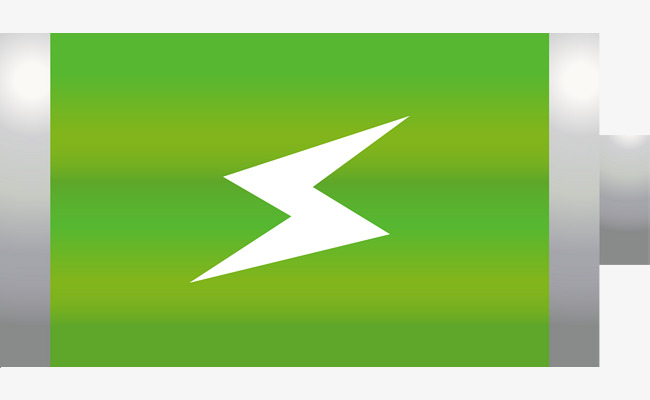charging sign: (1, 22, 650, 385)
